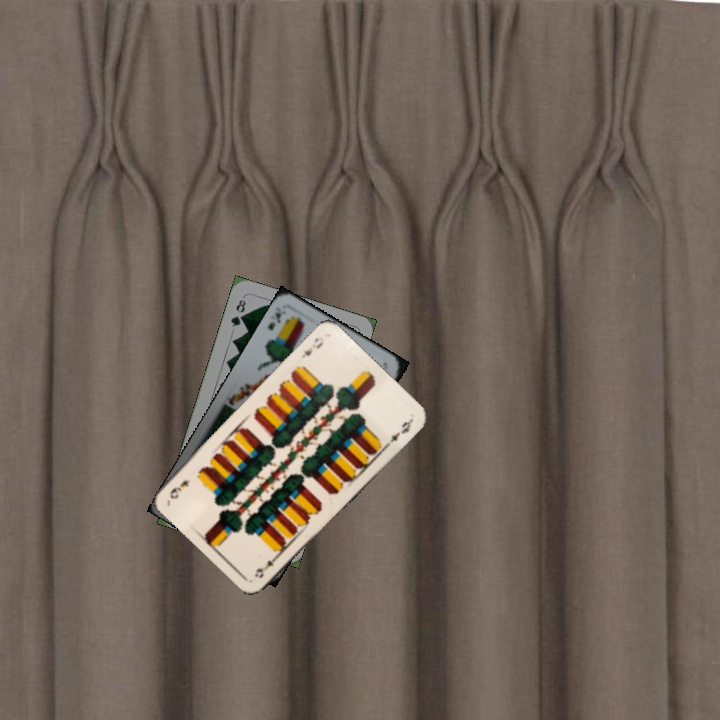E9: (250, 550, 283, 581), (298, 338, 326, 361)
EK: (264, 303, 288, 333)
G8: (226, 293, 248, 330)
